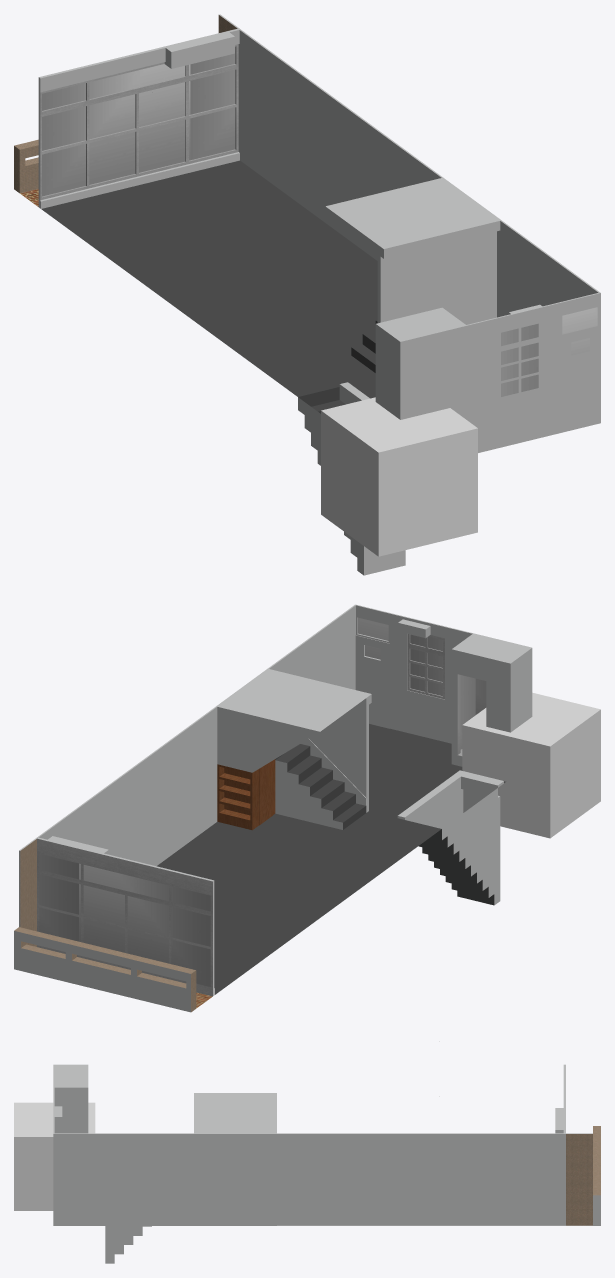
File: glitch_3F.glb
3 renders of one model, top to bottom at view 1: azimuth 30°, elevation 25°; view 2: azimuth 150°, elevation 25°; view 3: azimuth 270°, elevation 25°, orthographic. The views are drawn at different scales.
Visible parts, largest first — view 1: G-No_Name_001, Cube; view 2: G-No_Name_001, Cube; view 3: G-No_Name_001, Cube.
Part boxes in pixels (x1,y1,x2,y2): G-No_Name_001: [14, 14, 600, 575]; Cube: [321, 397, 477, 556]; G-No_Name_001: [14, 604, 532, 1012]; Cube: [462, 692, 600, 838]; G-No_Name_001: [53, 1064, 600, 1263]; Cube: [14, 1102, 95, 1210].
Size of the model in its own units: 5.03 by 5.85 by 14.42.
10 materials, 5 textured.
